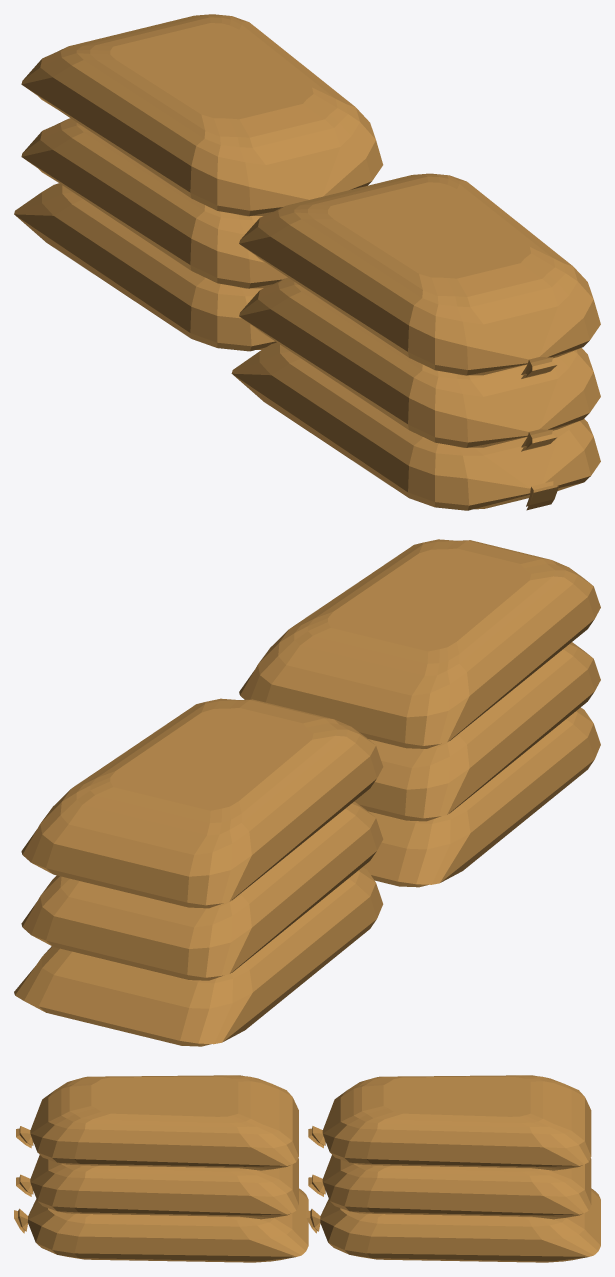
Rendered from 3D_Sandbags-2x3.fbx.
The picture shows the model from 3 angles, top to bottom: view 1: azimuth 30°, elevation 25°; view 2: azimuth 150°, elevation 25°; view 3: azimuth 270°, elevation 25°; orthographic projection. The views are drawn at different scales.
Visible parts, largest first — view 1: Cube.002; view 2: Cube.002; view 3: Cube.002.
Boxes of the visible parts, <box> form: Cube.002: <box>14,14,600,510</box>; Cube.002: <box>14,539,600,1046</box>; Cube.002: <box>14,1075,600,1262</box>.
Size of the model in its own units: 36.21 by 34.59 by 132.
